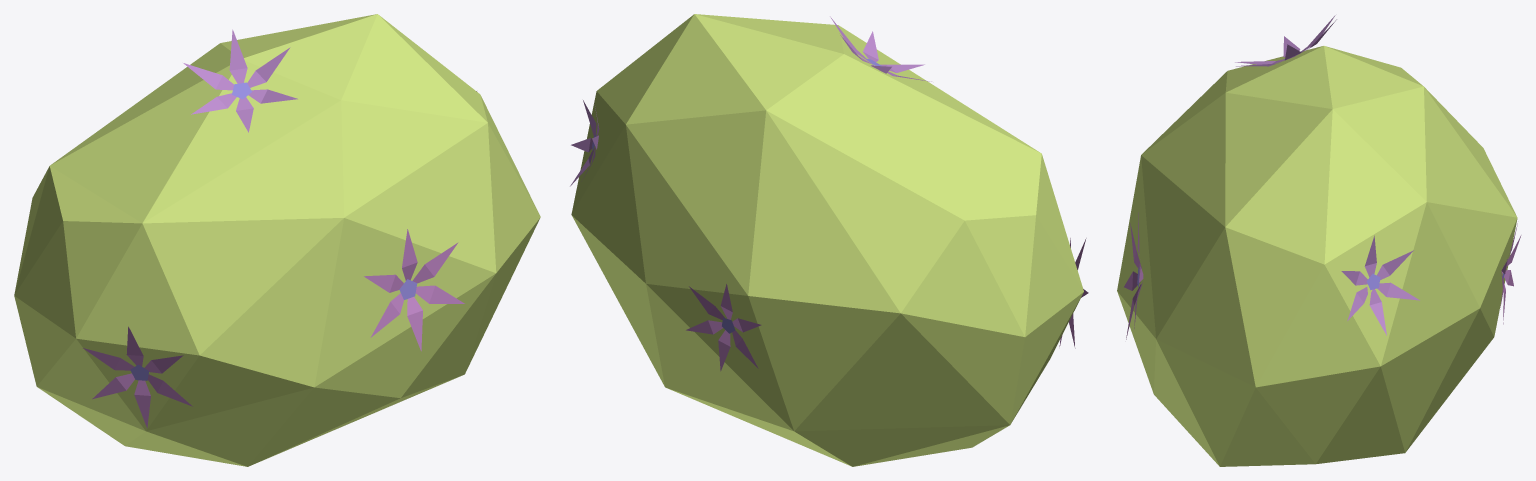
The model's file is FlowerBush_g_m_05.fbx.
3 views of the same model, side by side, from view 1: azimuth 30°, elevation 25°; view 2: azimuth 150°, elevation 25°; view 3: azimuth 270°, elevation 25° (orthographic). The views are drawn at different scales.
Parts seen in each view (by area): view 1: FlowerBush_g_m_05_LOD0; view 2: FlowerBush_g_m_05_LOD0; view 3: FlowerBush_g_m_05_LOD0.
Boxes of the visible parts, left/top/right/bottom form: FlowerBush_g_m_05_LOD0: left=14, top=14, right=540, bottom=466; FlowerBush_g_m_05_LOD0: left=570, top=14, right=1088, bottom=466; FlowerBush_g_m_05_LOD0: left=1117, top=15, right=1521, bottom=466.
Size of what is drawn, in the model's own units: 157 by 130 by 113.
